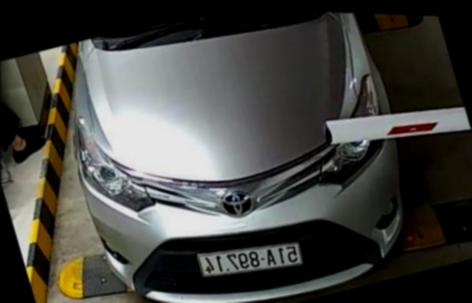License_Plate: (186, 223, 309, 289)
